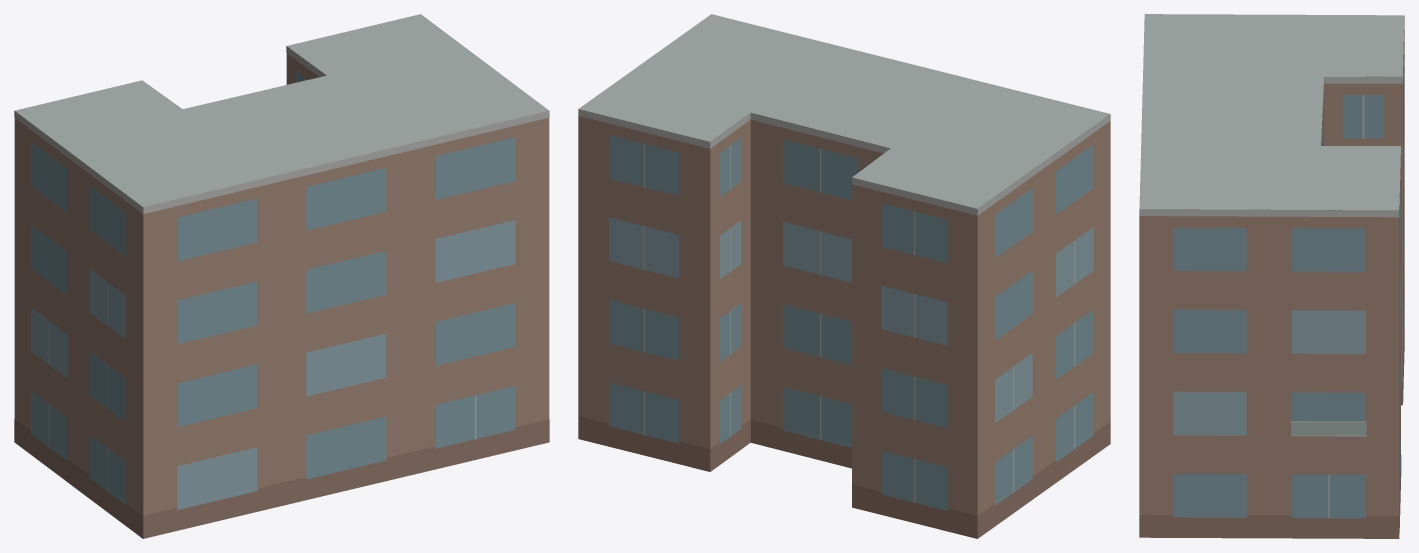
File: survey-upis-32951697.glb
The picture shows the model from 3 angles, left to right: view 1: azimuth 30°, elevation 25°; view 2: azimuth 150°, elevation 25°; view 3: azimuth 270°, elevation 25°; orthographic projection.
Parts seen in each view (by area): view 1: survey-upis-32951697.tmp; view 2: survey-upis-32951697.tmp; view 3: survey-upis-32951697.tmp.
Boxes of the visible parts, x1,y1,x2,y2 form: survey-upis-32951697.tmp: [14, 14, 549, 538]; survey-upis-32951697.tmp: [578, 14, 1110, 538]; survey-upis-32951697.tmp: [1139, 14, 1404, 538].
Size of the model in its own units: 15.03 by 11.7 by 8.57.
